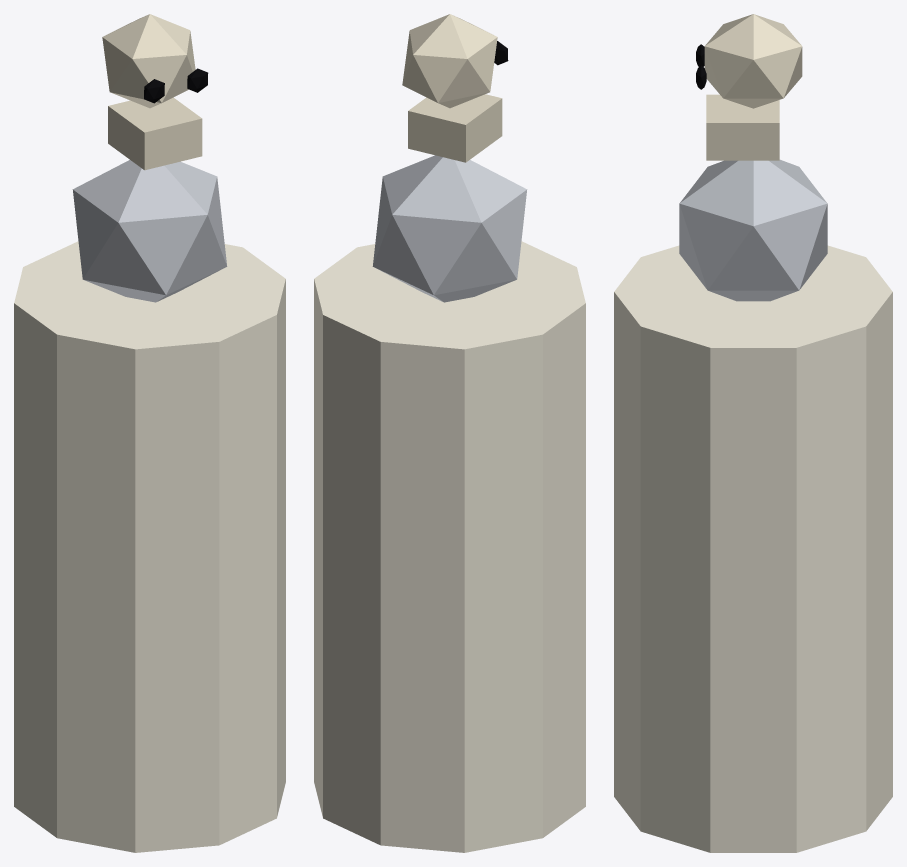
Rendered from Item_OR_Tonic_39.glb.
3 views of the same model, side by side, from view 1: azimuth 30°, elevation 25°; view 2: azimuth 150°, elevation 25°; view 3: azimuth 270°, elevation 25° (orthographic).
Visible parts, largest first — view 1: Item_OR_Tonic_39; view 2: Item_OR_Tonic_39; view 3: Item_OR_Tonic_39.
Part boxes in pixels (x1,y1,x2,y2): Item_OR_Tonic_39: [14, 14, 285, 852]; Item_OR_Tonic_39: [314, 14, 585, 852]; Item_OR_Tonic_39: [614, 14, 892, 852].
Bounding box in the file's own units: 0.0761 × 0.248 × 0.08.
